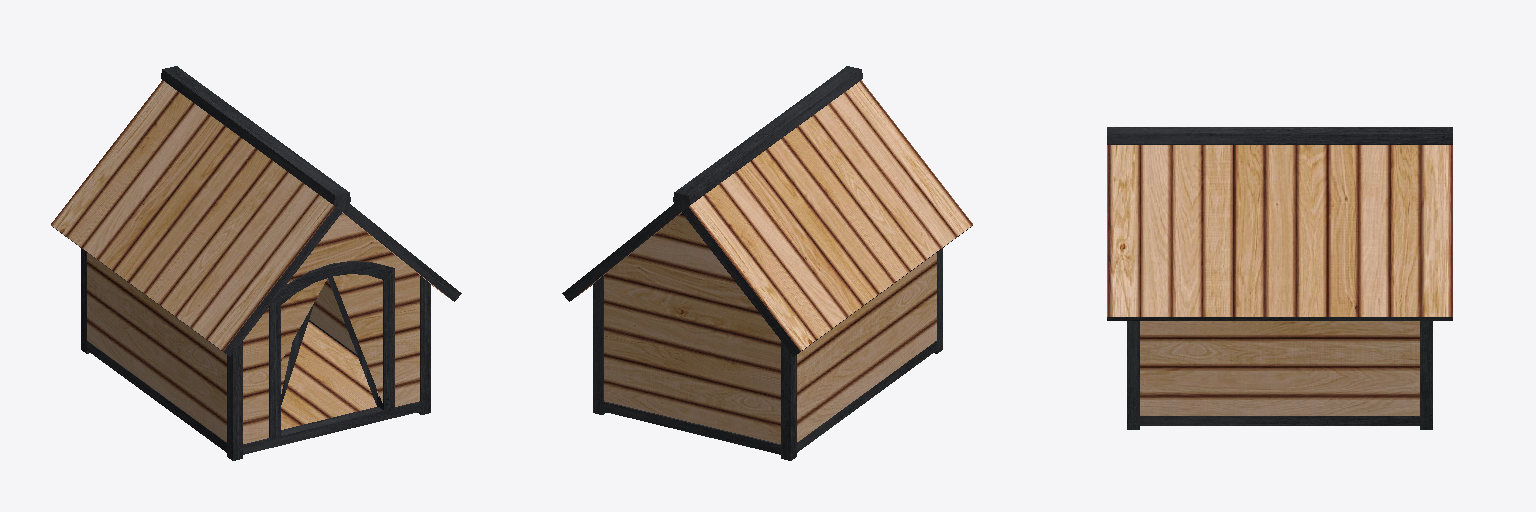
3 renders of one model, left to right at view 1: azimuth 30°, elevation 25°; view 2: azimuth 150°, elevation 25°; view 3: azimuth 270°, elevation 25°, orthographic.
Parts seen in each view (by area): view 1: Cube_Cube.001, Cube.002_Cube.000, Cube.001_Cube.002, Cube.003; view 2: Cube_Cube.001, Cube.002_Cube.000, Cube.003; view 3: Cube_Cube.001, Cube.003, Cube.002_Cube.000.
Part boxes in pixels (x1,y1,x2,y2): Cube_Cube.001: (51,80,461,443); Cube.002_Cube.000: (81,248,430,460); Cube.001_Cube.002: (269,261,394,439); Cube.003: (161,66,350,211); Cube_Cube.001: (562,80,972,443); Cube.002_Cube.000: (593,248,942,460); Cube.003: (673,66,862,211); Cube_Cube.001: (1107,145,1452,415); Cube.003: (1107,127,1452,144); Cube.002_Cube.000: (1127,321,1432,429).
Bounding box in the file's own units: 0.7955 × 0.7984 × 1.
2 materials, 1 textured.